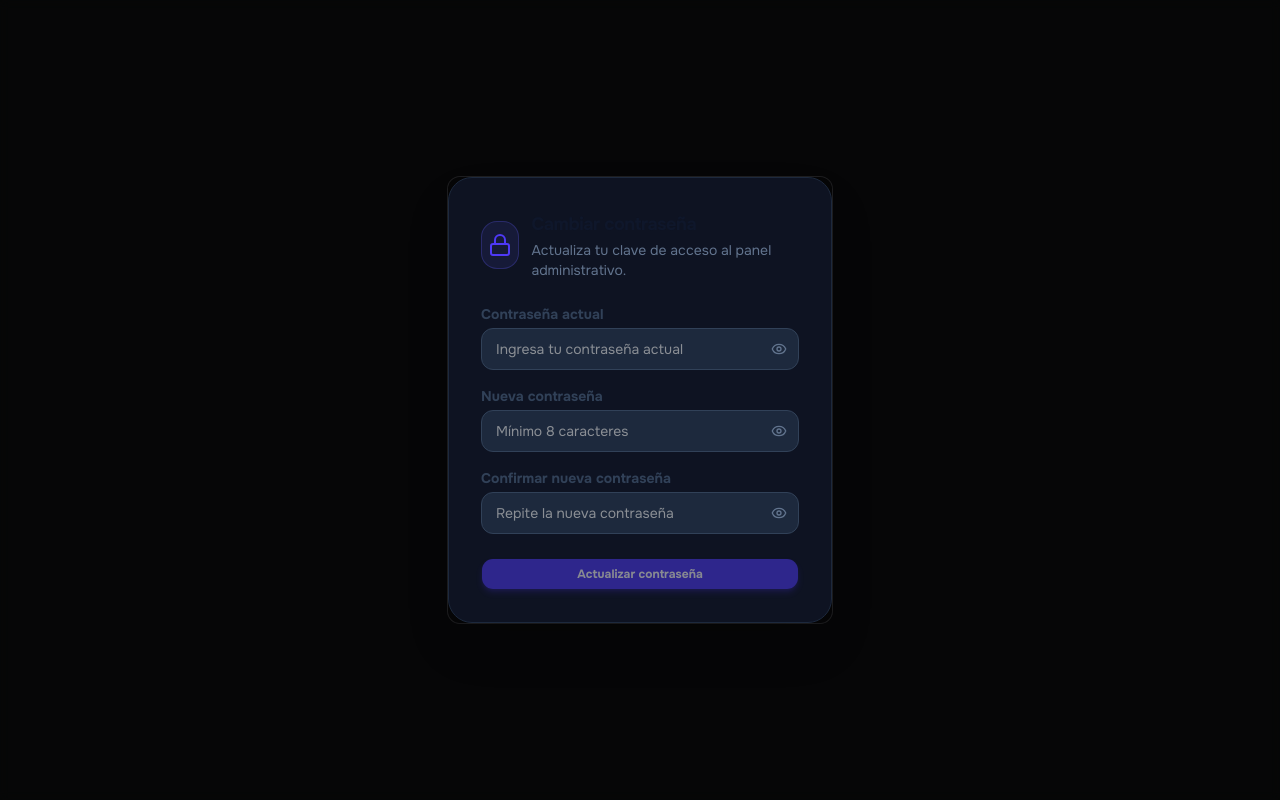
it: ChangePasswordScreen (TDD) › shows inline validation error when new password is under 8 characters
Type "short1" into the password field labelled "Nueva contraseña". click: {"x": 640, "y": 431}
box: x1=481 y1=410 x2=799 y2=452
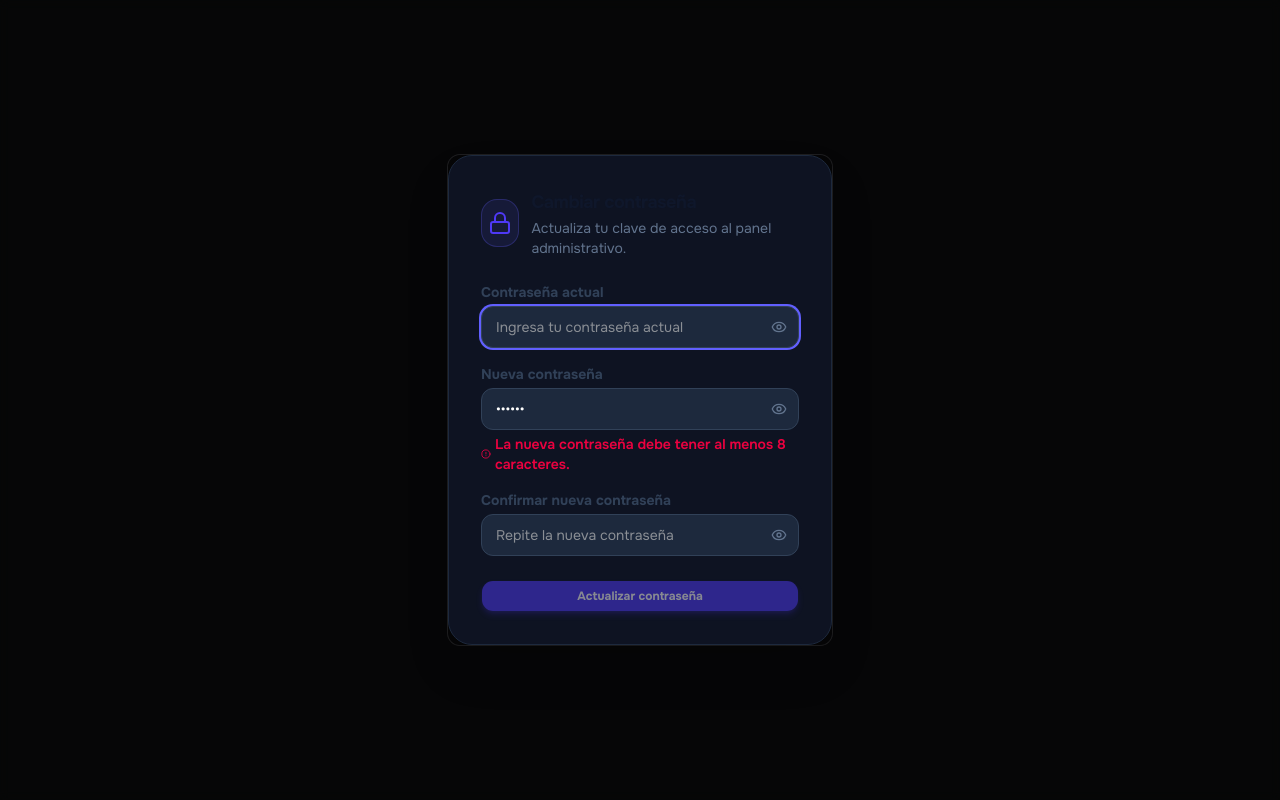
Expected: the text "La nueva contraseña debe tener al menos 8 caracteres." is shown, x1=495 y1=434 x2=799 y2=474
